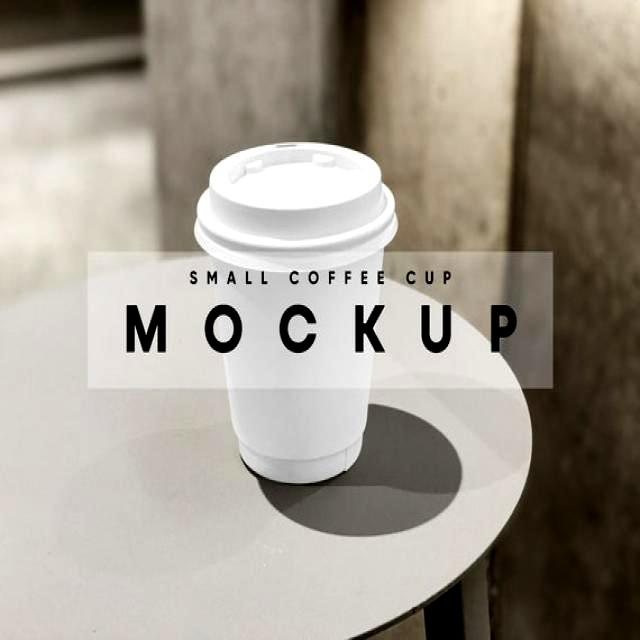Coffee Cup: (192, 138, 400, 486)
